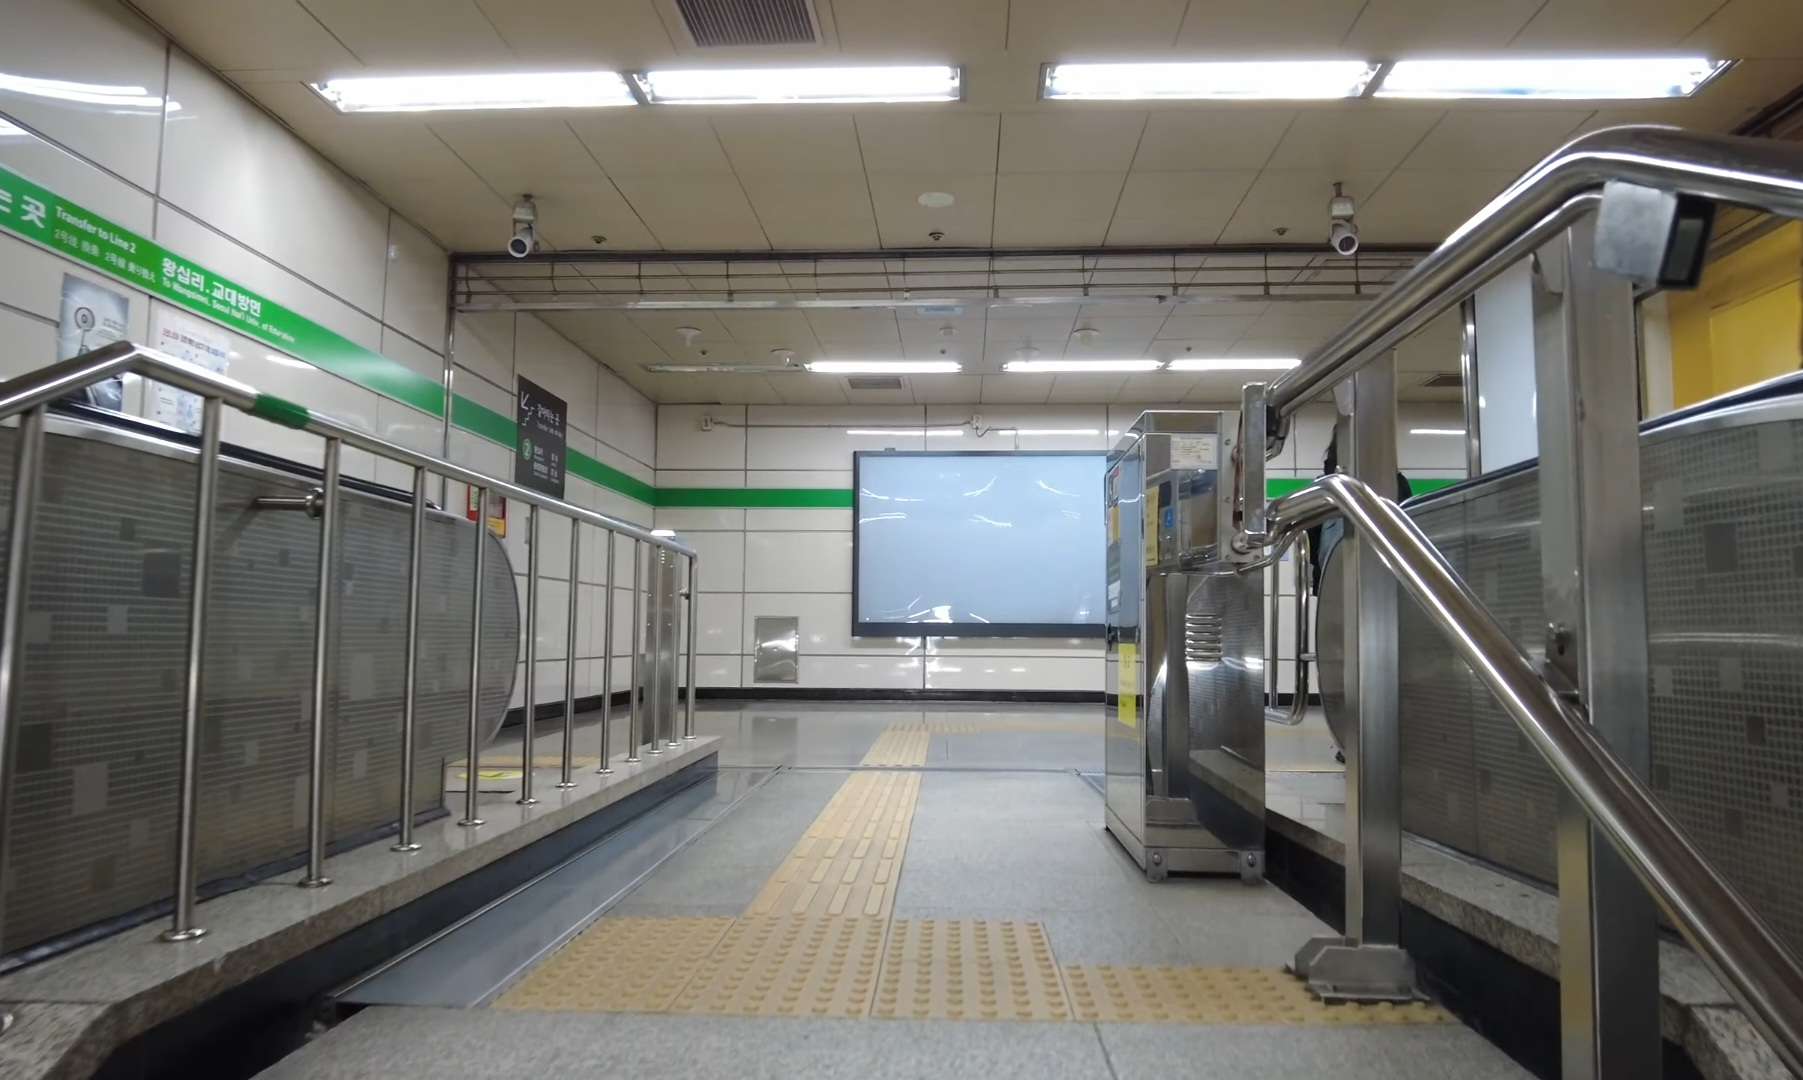guideBlock: (786, 838, 894, 924), (828, 804, 911, 860)
warningBlock: (1079, 959, 1302, 1031), (688, 949, 884, 1026), (884, 959, 1079, 1029), (538, 951, 688, 1022), (888, 923, 1061, 984), (711, 924, 884, 975), (580, 919, 706, 960)
